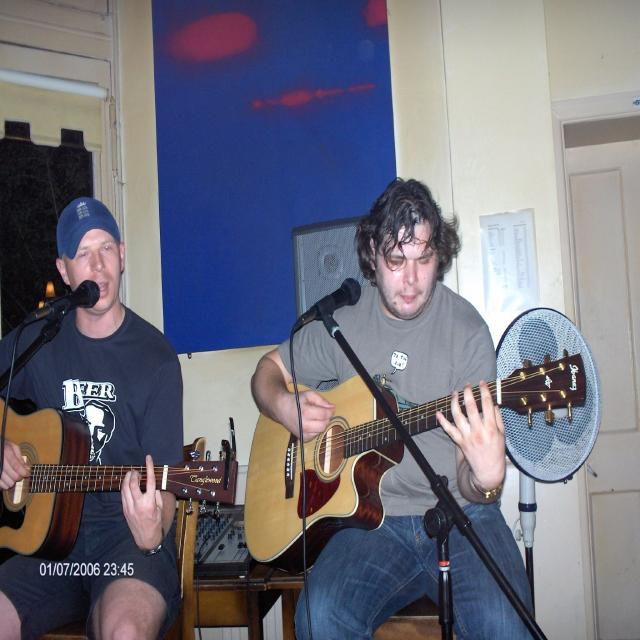guitar: (243, 352, 588, 579), (0, 398, 239, 561)
